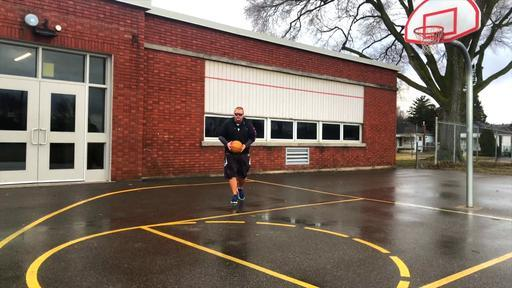ball: (229, 140, 243, 153)
human: (218, 107, 256, 205)
rim: (412, 25, 445, 55)
